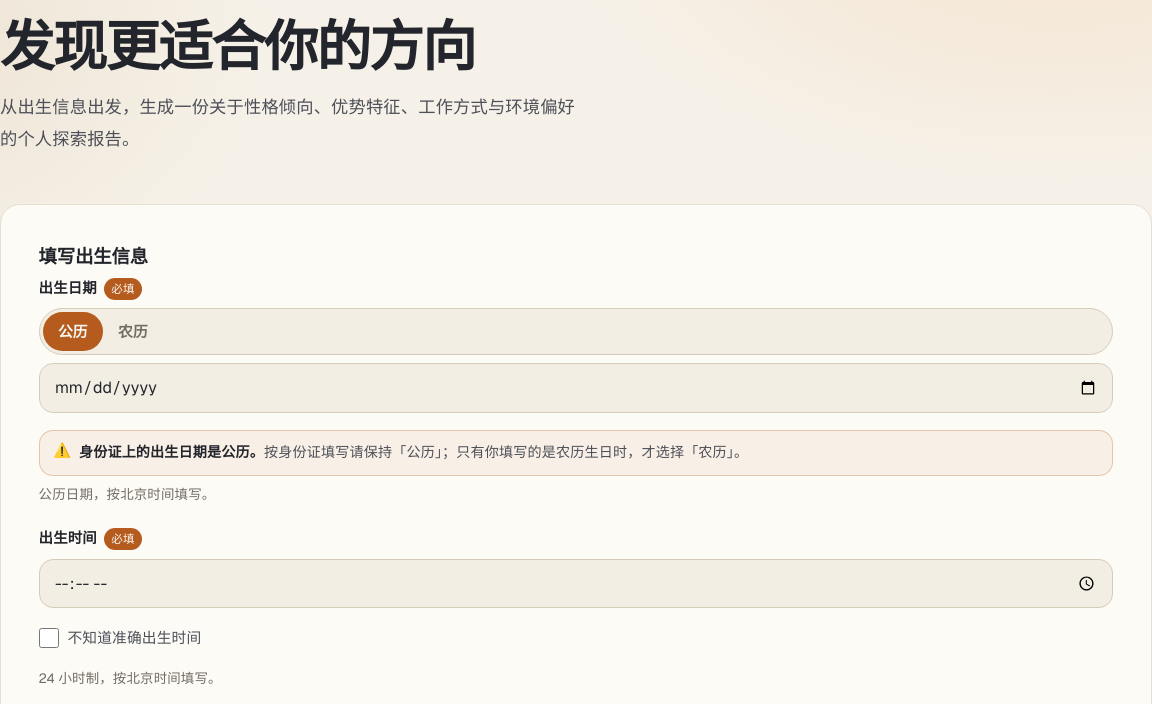
Test case: shows a running progress indicator while the report is generating
In the date field labelled "出生日期": (576, 388) left=39, top=363, right=1113, bottom=413, type "1977-10-15"
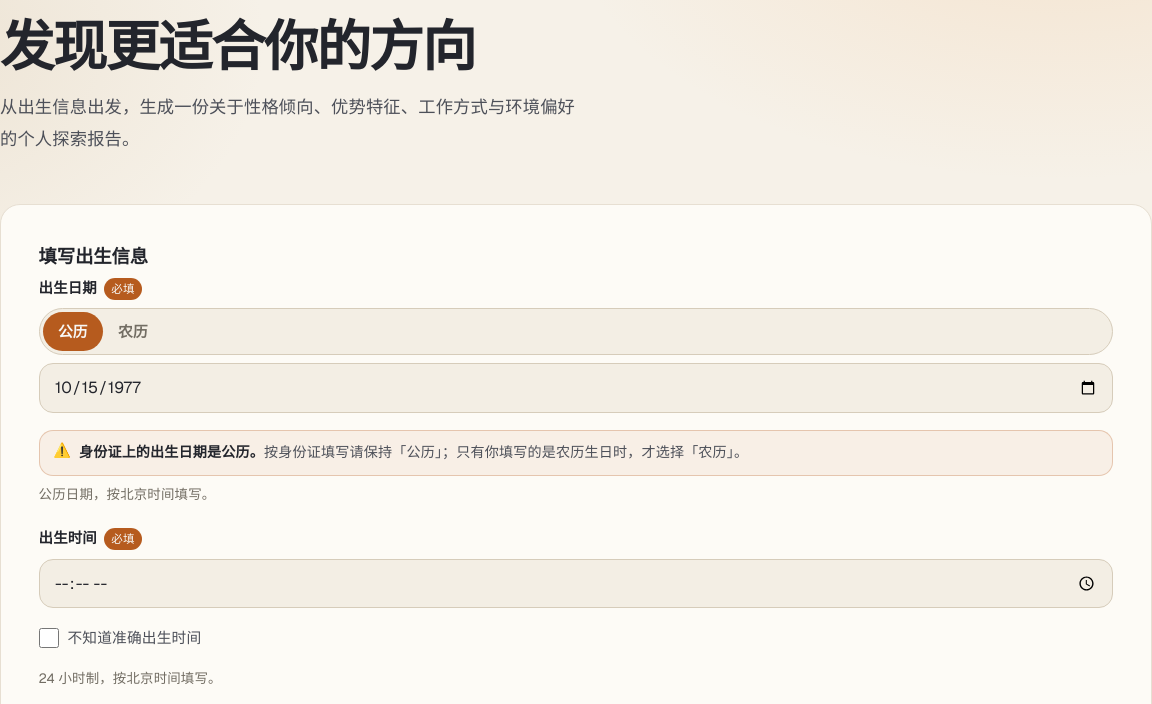
In the time field labelled "出生时间": (576, 583) left=39, top=558, right=1113, bottom=608, type "13:30"
(page scrolled)
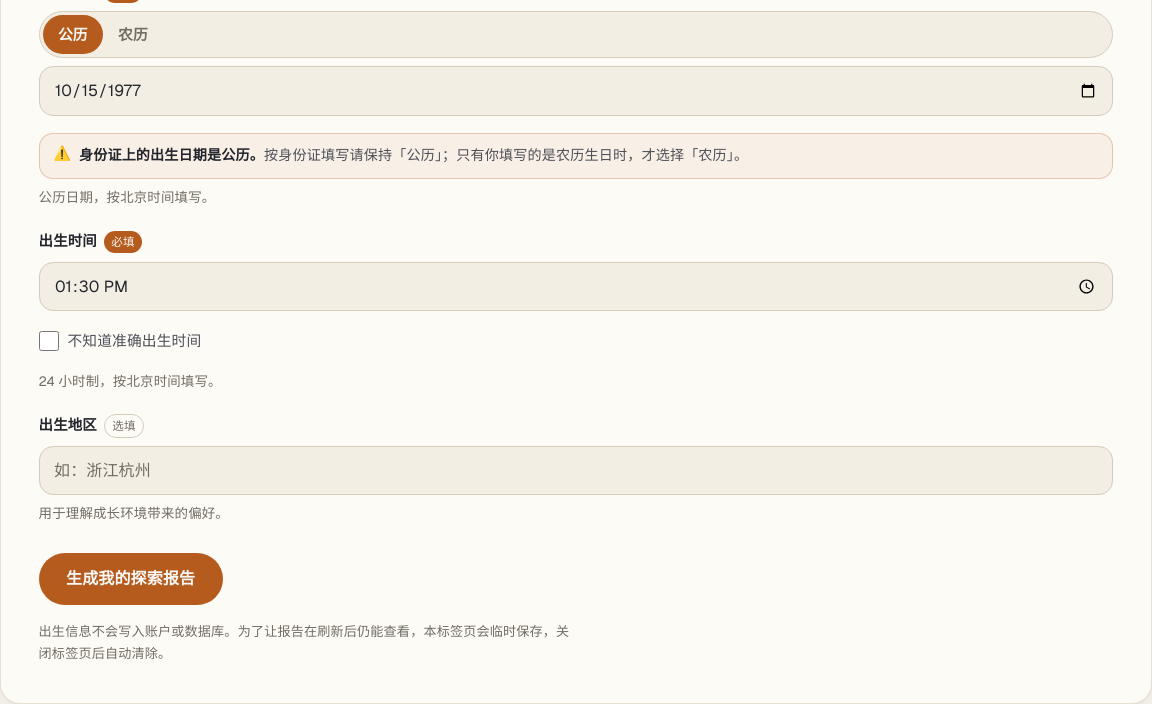
Click the button "生成我的探索报告": (131, 579) left=39, top=553, right=223, bottom=605
(page scrolled)
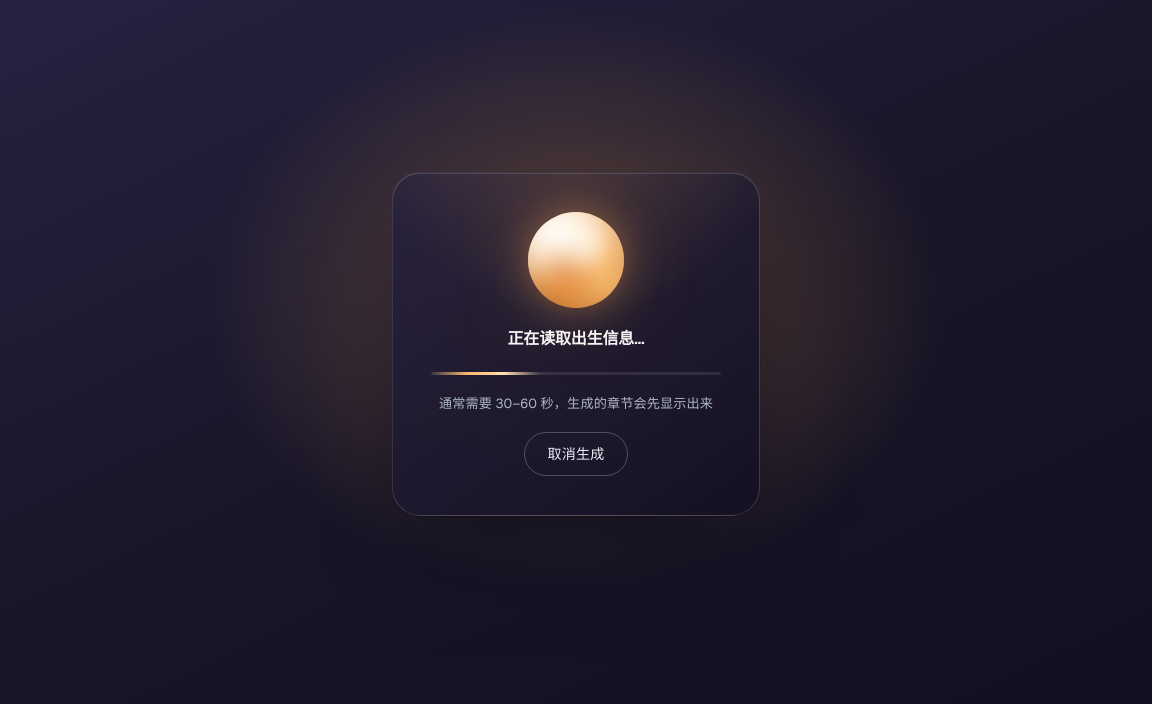
Now the text "正在读取出生信息…" is shown, box left=508, top=326, right=644, bottom=352
Now the dialog named "正在生成报告" is shown, box left=392, top=172, right=760, bottom=516
